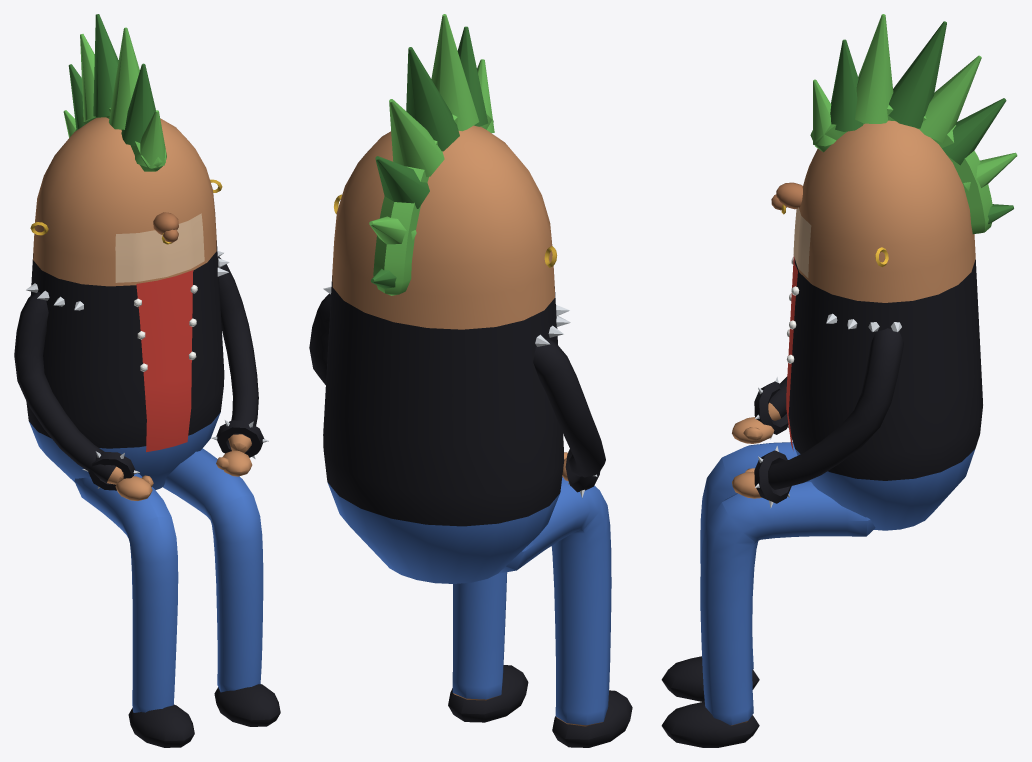
The model's file is VivoRockero.fbx.
3 renders of one model, left to right at view 1: azimuth 30°, elevation 25°; view 2: azimuth 150°, elevation 25°; view 3: azimuth 270°, elevation 25°, orthographic. The views are drawn at different scales.
Visible parts, largest first — view 1: Cuerpo, PiernaIzq, PiernaDer, BrazoDer, BrazoIzq, Boca; view 2: Cuerpo, PiernaDer, PiernaIzq, BrazoDer, BrazoIzq; view 3: Cuerpo, PiernaIzq, BrazoIzq, PiernaDer, BrazoDer, Boca.
Part boxes in pixels (x1=…): Cuerpo: x1=26, y1=14, x2=229, y2=489; PiernaIzq: x1=163, y1=448, x2=280, y2=726; PiernaDer: x1=74, y1=473, x2=194, y2=747; BrazoDer: x1=14, y1=292, x2=153, y2=500; BrazoIzq: x1=211, y1=257, x2=268, y2=476; Boca: x1=115, y1=213, x2=204, y2=282; Cuerpo: x1=323, y1=14, x2=570, y2=583; PiernaDer: x1=498, y1=476, x2=632, y2=747; PiernaIzq: x1=448, y1=572, x2=528, y2=722; BrazoDer: x1=533, y1=338, x2=605, y2=498; BrazoIzq: x1=309, y1=293, x2=330, y2=384; Cuerpo: x1=771, y1=14, x2=1017, y2=530; PiernaIzq: x1=661, y1=481, x2=875, y2=747; BrazoIzq: x1=732, y1=328, x2=903, y2=508; PiernaDer: x1=661, y1=442, x2=808, y2=701; BrazoDer: x1=732, y1=376, x2=788, y2=443; Boca: x1=793, y1=207, x2=811, y2=277.
Bounding box in the file's own units: 2.11 × 5.67 × 2.6.
Materials: 2 (1 with a texture image).
